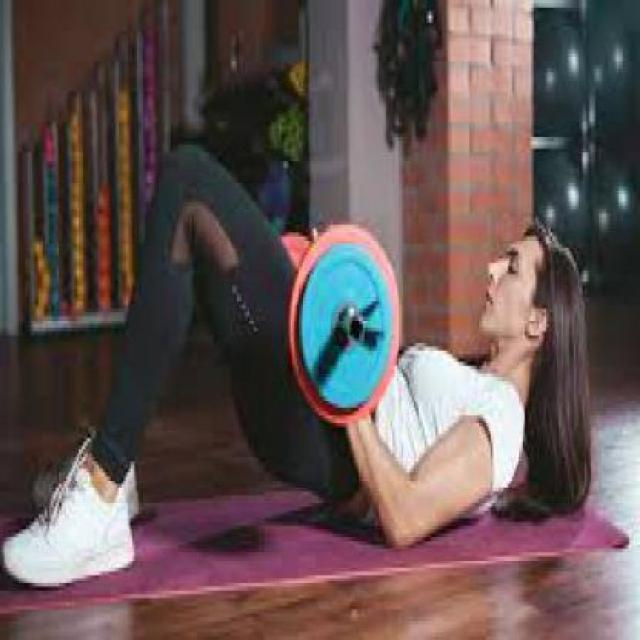Barbell: (345, 304, 370, 350)
